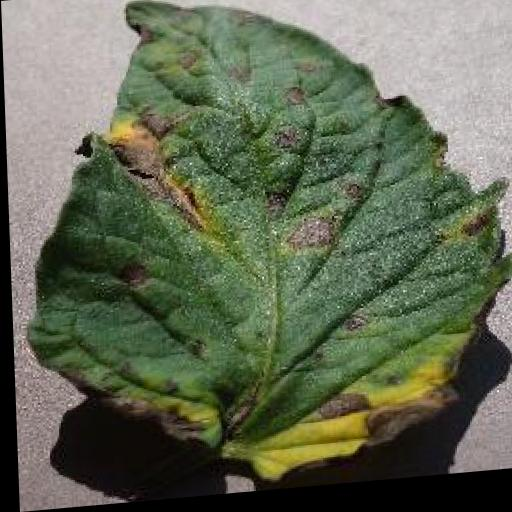Early Blight: (15, 0, 512, 502)
